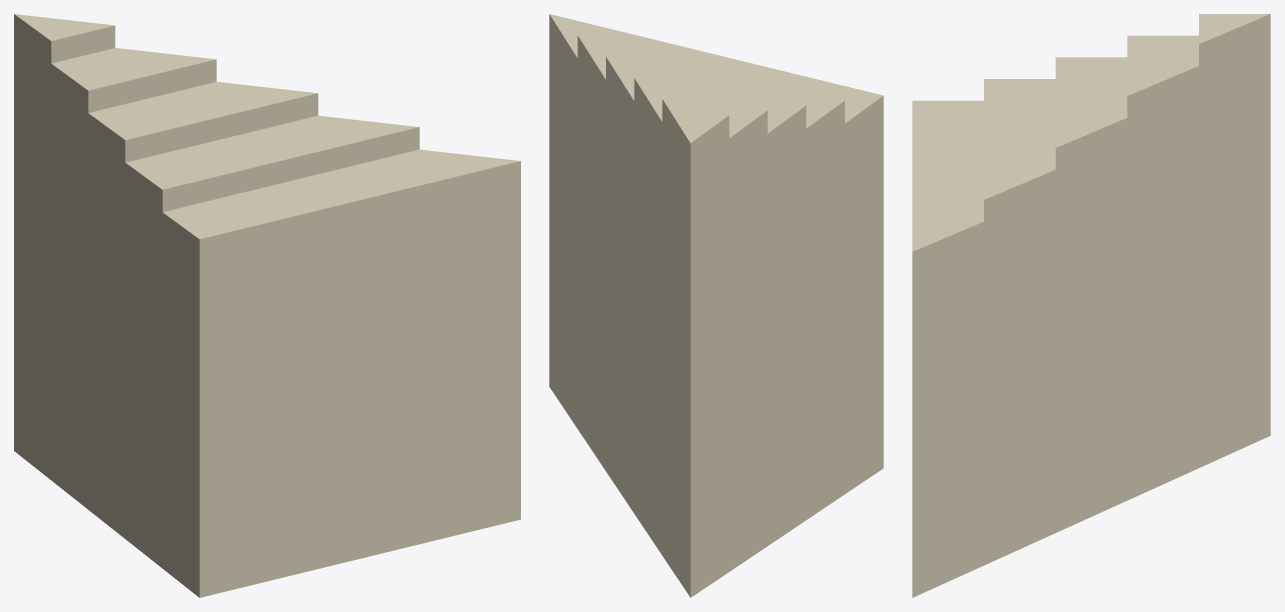
File: roman_stair_corner_half.fbx
The picture shows the model from 3 angles, left to right: view 1: azimuth 30°, elevation 25°; view 2: azimuth 150°, elevation 25°; view 3: azimuth 270°, elevation 25°; orthographic projection. The views are drawn at different scales.
Parts seen in each view (by area): view 1: Cube.010; view 2: Cube.010; view 3: Cube.010.
Part boxes in pixels (bbox=[...]): Cube.010: bbox=[14, 14, 520, 597]; Cube.010: bbox=[549, 14, 883, 597]; Cube.010: bbox=[912, 14, 1270, 597].
Bounding box in the file's own units: 3 × 4 × 3.
